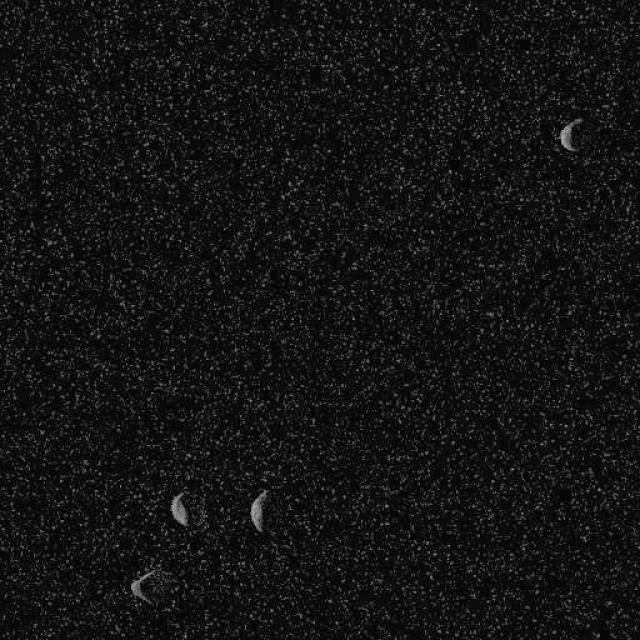D2: (129, 566, 179, 608), (249, 488, 269, 532), (558, 116, 582, 152), (169, 492, 189, 526)
